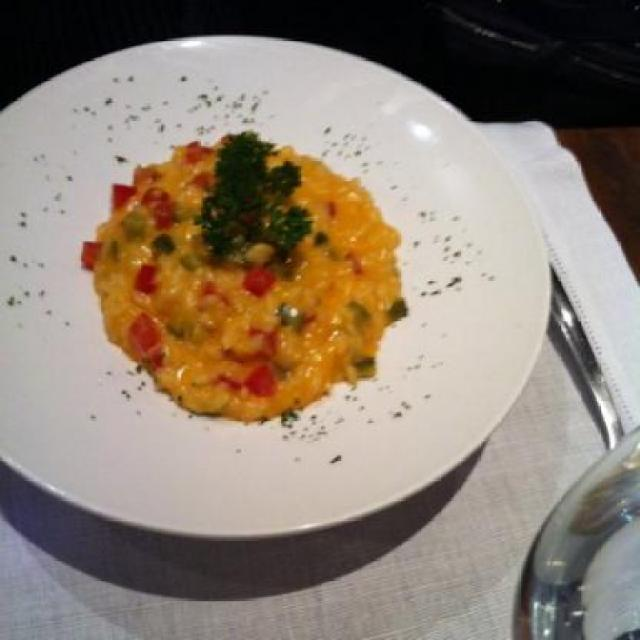Risotto: (81, 115, 422, 408)
